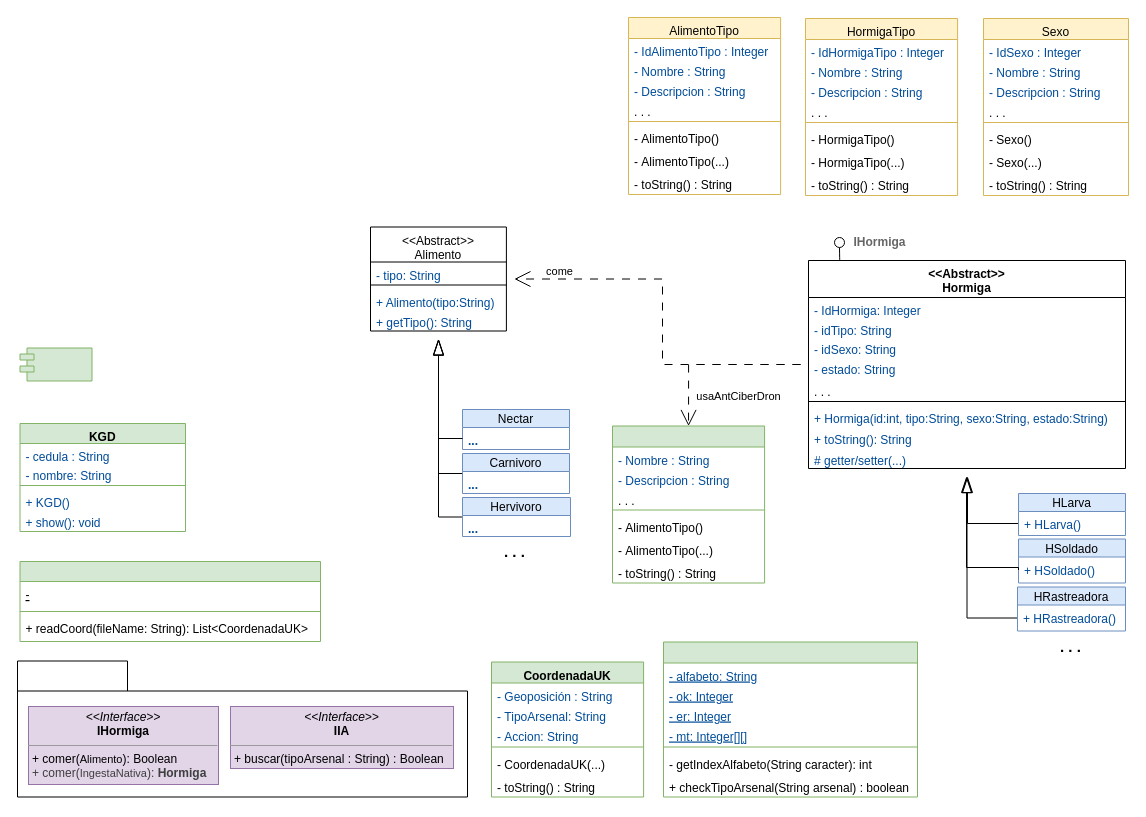
Image size: 1146x817. Some labels were removed from this diagram. Each missing label, with the box of its shape:
AntCiberDron: (612, 425, 765, 583)
Automata: (662, 641, 918, 797)
Interfaces: (16, 660, 468, 797)
SistemaRuso: (19, 560, 320, 642)
Utility: (19, 347, 92, 381)
